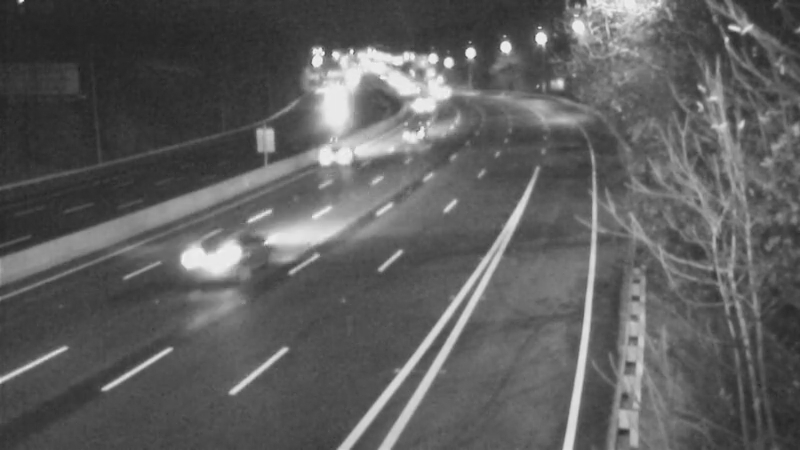vehicle: (303, 115, 383, 195), (175, 216, 255, 296), (398, 81, 448, 131), (390, 109, 440, 159), (307, 75, 357, 125)
